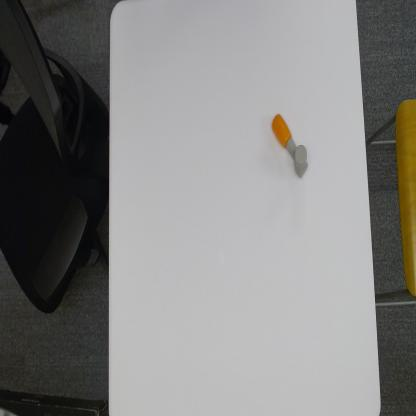Hammer: (271, 113, 310, 179)
